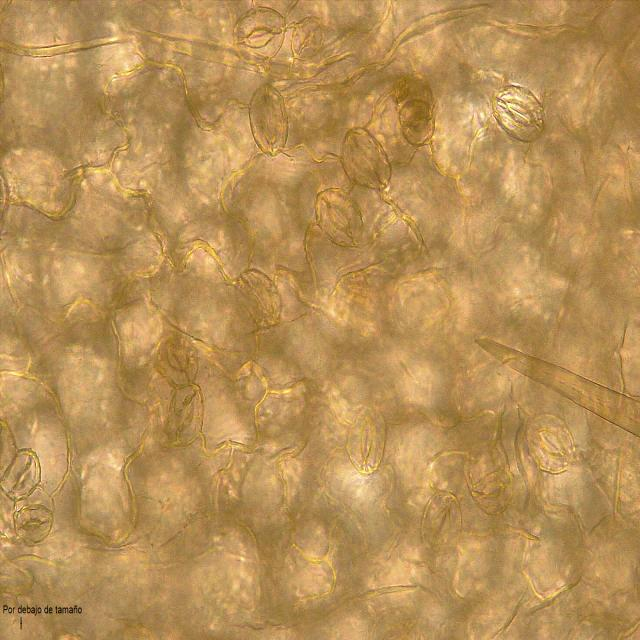Stomata: (233, 264, 290, 336), (339, 121, 394, 192), (230, 2, 287, 70), (246, 80, 293, 160), (312, 184, 368, 251), (490, 83, 549, 145), (524, 412, 578, 476), (345, 402, 389, 479), (418, 488, 464, 557), (163, 383, 206, 449), (154, 331, 202, 388), (468, 461, 516, 518), (0, 447, 43, 504), (398, 96, 438, 150), (290, 12, 330, 64), (14, 504, 56, 547)
